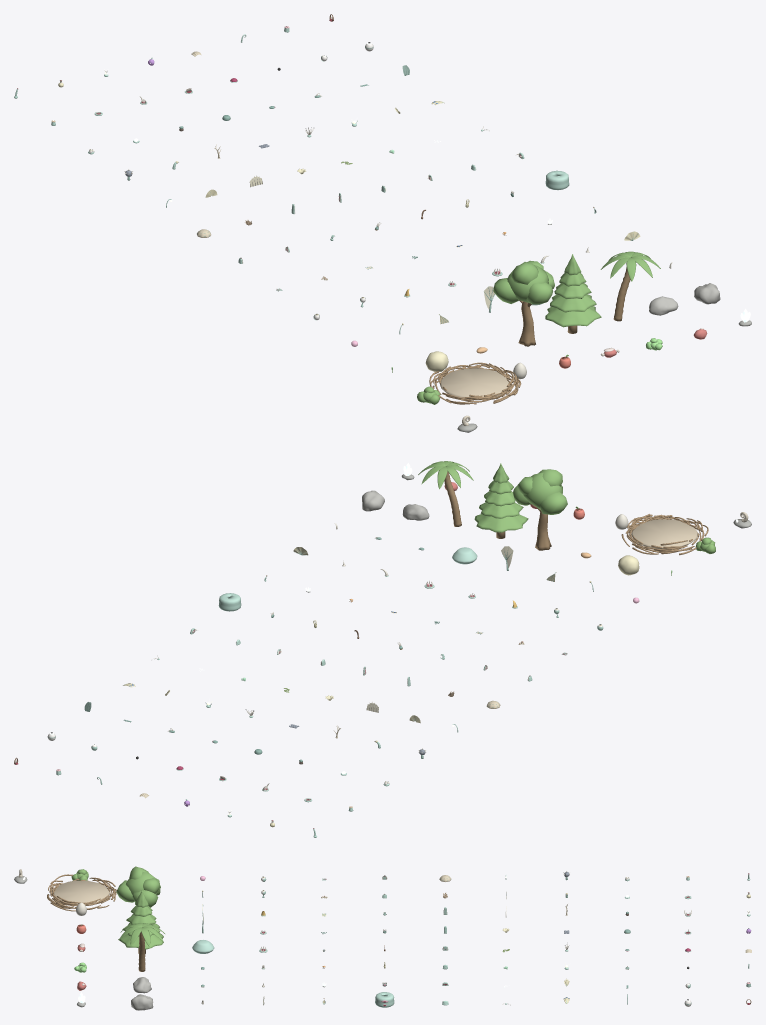
Rendered from primordia_parts.glb.
The picture shows the model from 3 angles, top to bottom: view 1: azimuth 30°, elevation 25°; view 2: azimuth 150°, elevation 25°; view 3: azimuth 270°, elevation 25°; orthographic projection. The views are drawn at different scales.
Parts seen in each view (by area): view 1: bowl, tier0; view 2: bowl, tier0, leaves0; view 3: bowl, tier0, leaves0, rock_b.
Part boxes in pixels (x1,y1,x2,y2): bowl: [440, 368, 509, 400]; tier0: [545, 306, 601, 327]; bowl: [631, 519, 697, 548]; tier0: [474, 514, 528, 532]; leaves0: [523, 472, 562, 508]; bowl: [54, 880, 109, 903]; tier0: [118, 933, 163, 949]; leaves0: [126, 871, 160, 902]; rock_b: [131, 994, 153, 1010].
Size of the model in its own units: 33.55 by 8.42 by 79.07.
